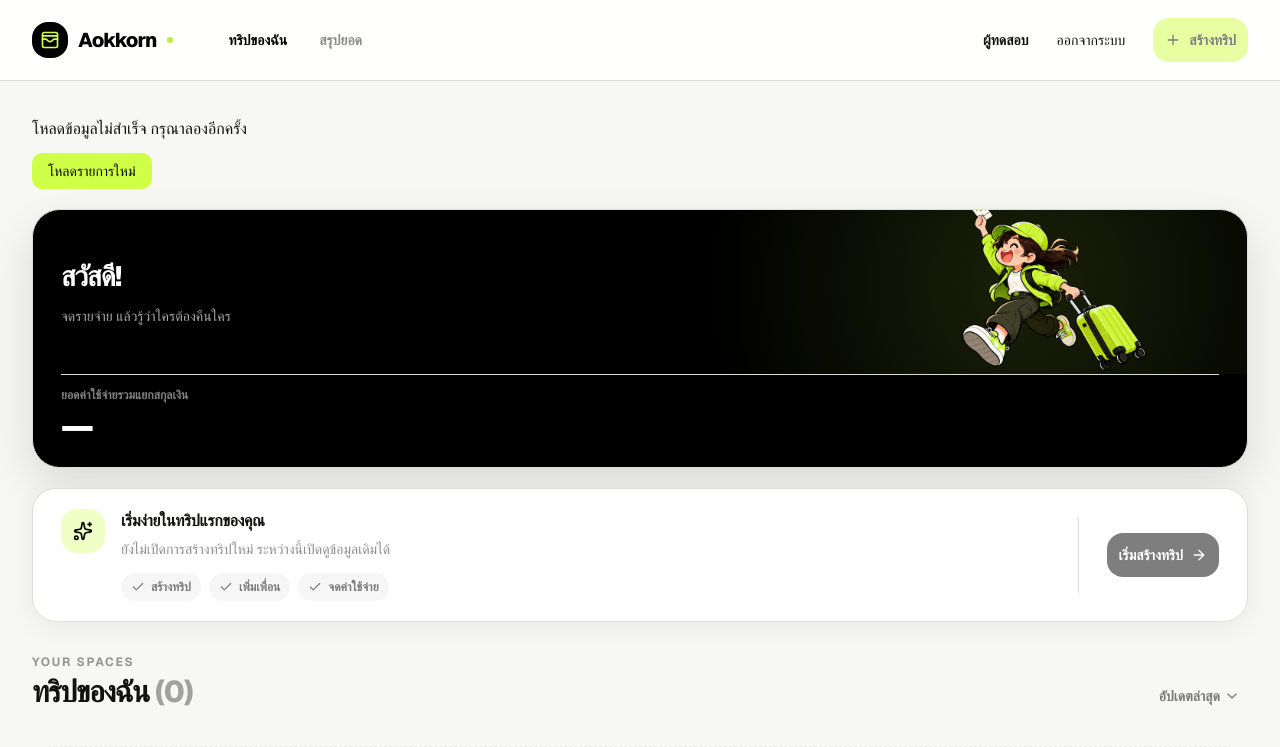
Test: backend ล่มแสดง retry ไม่สวมข้อมูล local หรือแสดง empty state
Expected: the message "โหลดข้อมูลไม่สำเร็จ กรุณาลองอีกครั้ง" is shown, [32,118,247,139]
Click the button "โหลดรายการใหม่": (92,171) [32,153,152,189]
(page scrolled)
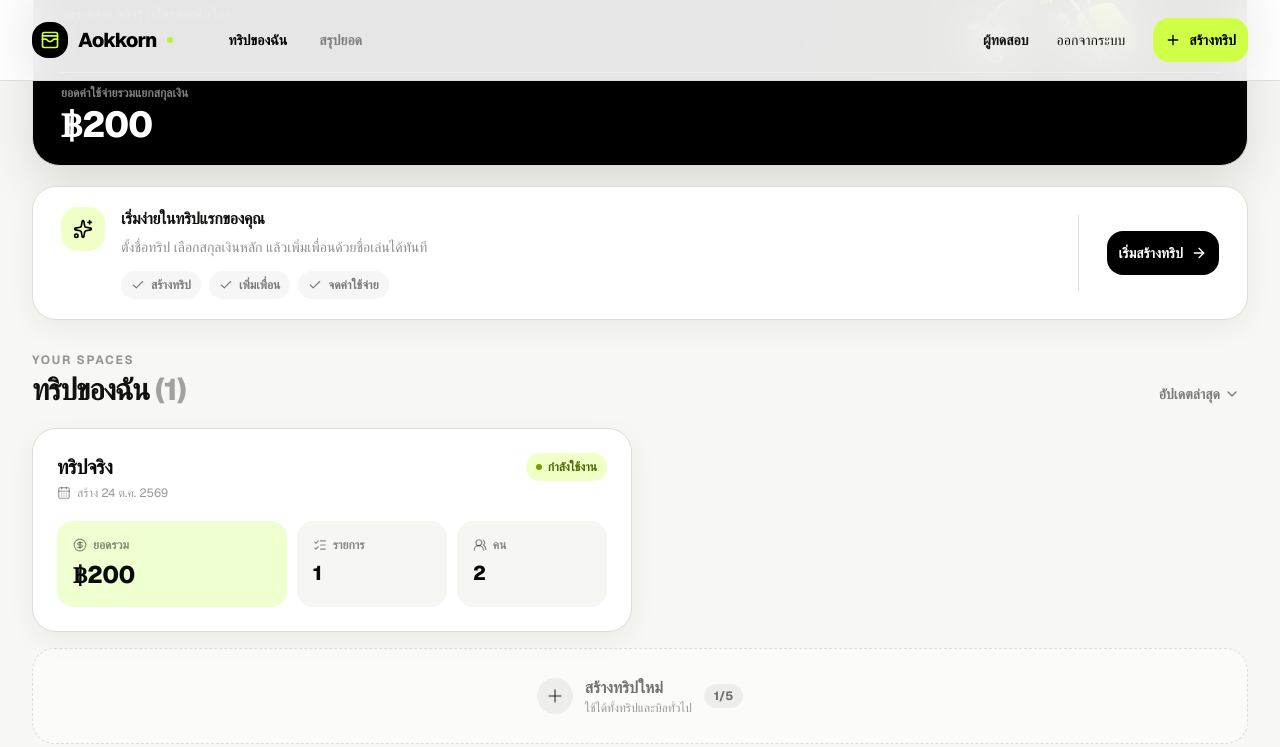
Result: the link with aria-label "ดูรายการในทริปจริง" is shown at [32,428,632,632]
